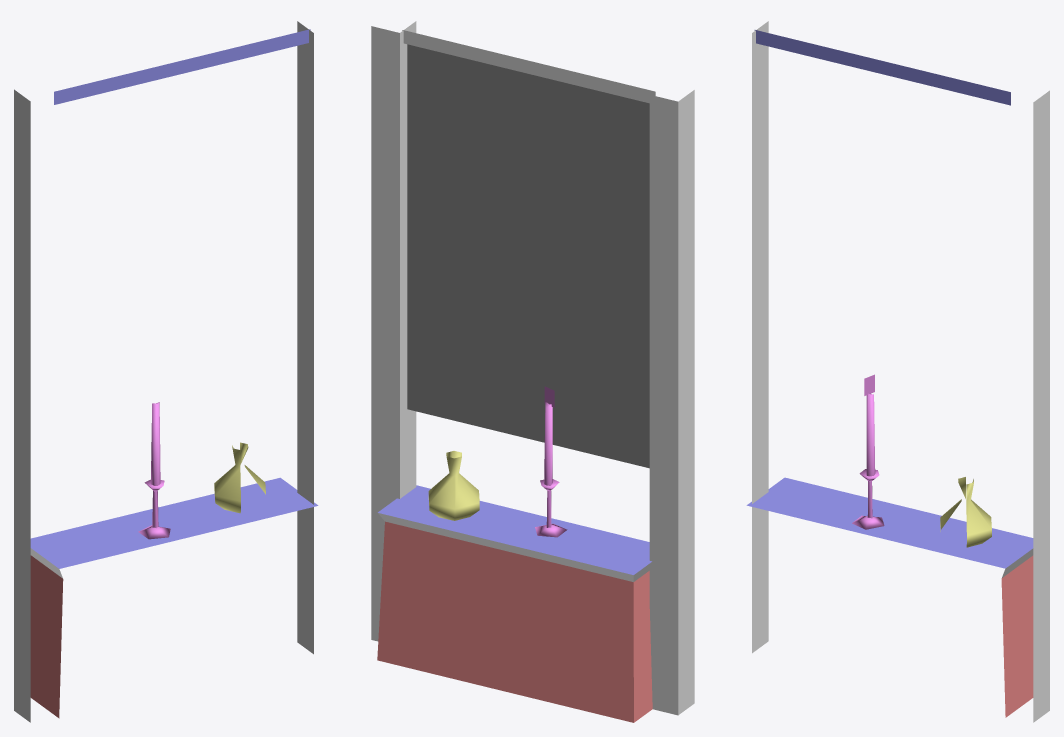
Rendered from interior_B_delf_store_23.gltf.
3 renders of one model, left to right at view 1: azimuth 30°, elevation 25°; view 2: azimuth 150°, elevation 25°; view 3: azimuth 330°, elevation 25°, orthographic.
Visible parts, largest first — view 1: interior_B_delf_store_23; view 2: interior_B_delf_store_23; view 3: interior_B_delf_store_23.
Boxes of the visible parts, x1=… form: interior_B_delf_store_23: x1=14, y1=21, x2=318, y2=722; interior_B_delf_store_23: x1=371, y1=21, x2=694, y2=722; interior_B_delf_store_23: x1=746, y1=21, x2=1049, y2=722.
Bounding box in the file's own units: 0.6619 × 1.26 × 0.1413.
